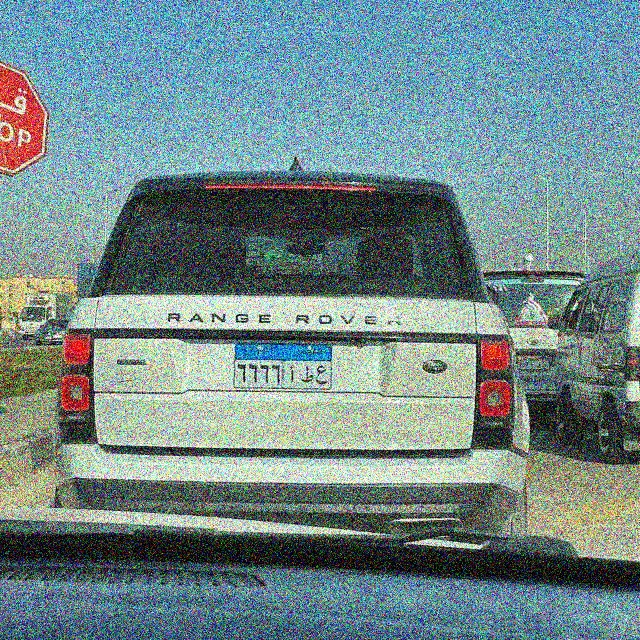License Plate: (231, 340, 334, 391)
